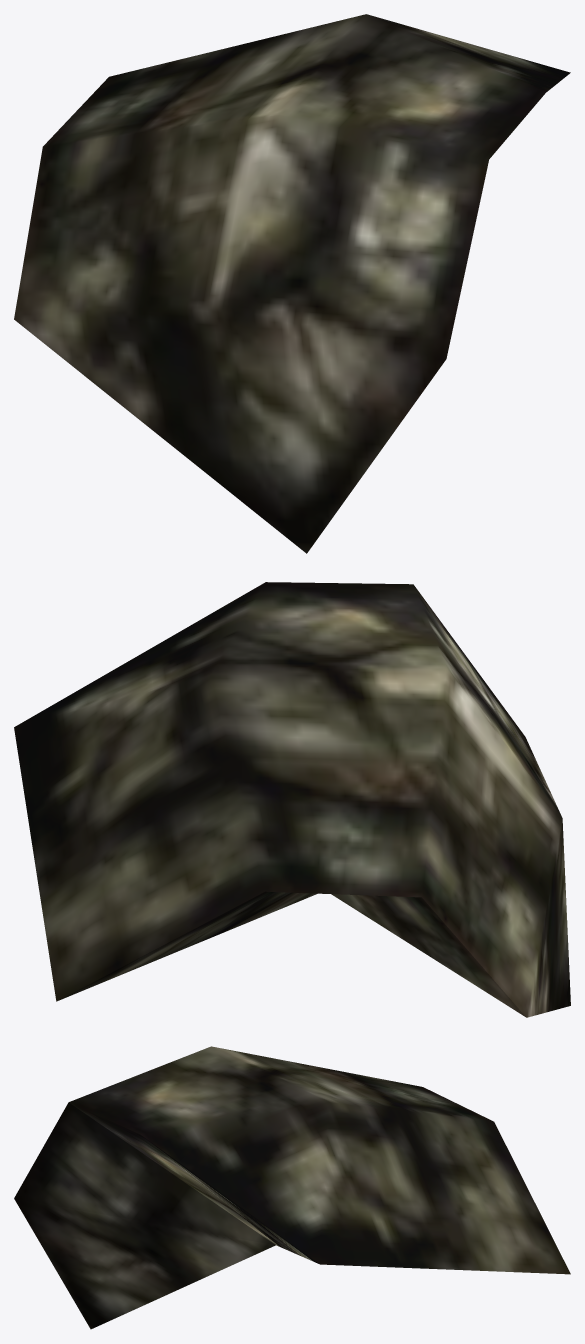
Rendered from icegiantpart_3.glb.
3 views of the same model, one above another, from view 1: azimuth 30°, elevation 25°; view 2: azimuth 150°, elevation 25°; view 3: azimuth 270°, elevation 25° (orthographic). The views are drawn at different scales.
Visible parts, largest first — view 1: model_icegiantpart_3; view 2: model_icegiantpart_3; view 3: model_icegiantpart_3.
Part boxes in pixels (x1,y1,x2,y2): model_icegiantpart_3: (14,14,570,553); model_icegiantpart_3: (14,582,570,1017); model_icegiantpart_3: (14,1046,570,1329).
Size of the model in its own units: 0.4117 by 0.283 by 0.4627.
1 material, 1 textured.
